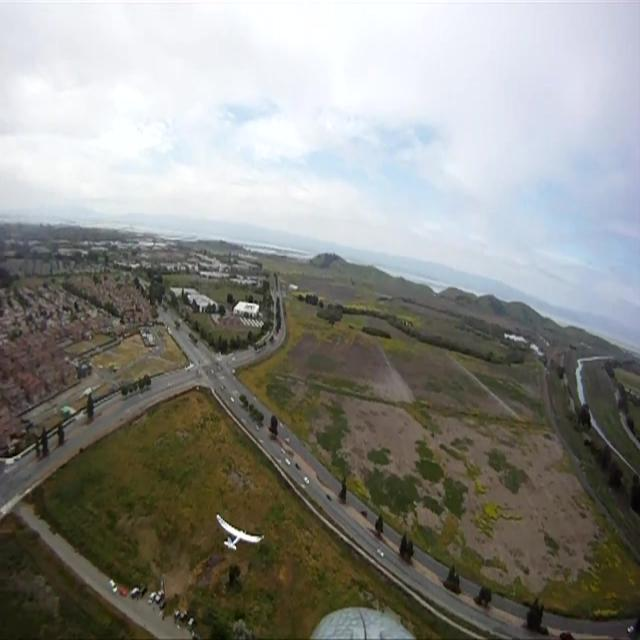iha: (216, 514, 265, 551)
